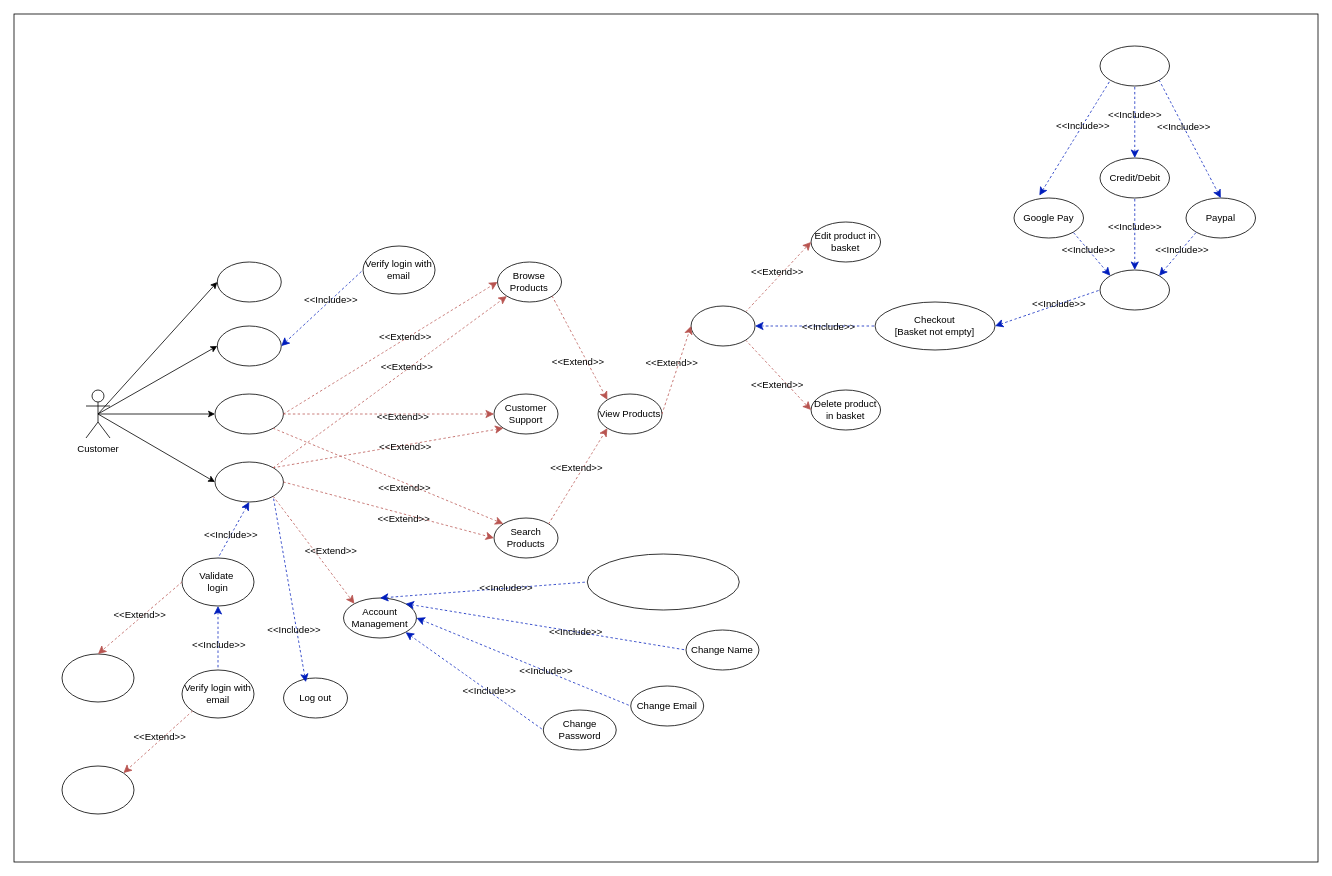
This 1332x876 diagram has some shape labels left out. Here are the shapes that lost their labels. From the top down, the centre of each, then its label:
At point (1134, 65): "Pay for Basket".
At point (248, 281): "Forgot Password".
At point (1134, 289): "Payment Types".
At point (248, 345): "Register".
At point (722, 325): "View Basket".
At point (248, 413): "Continue as guest".
At point (248, 481): "Log in".
At point (662, 581): "Order History [Needs at least one order]".
At point (97, 677): "Incorrect login".
At point (97, 789): "Incorrect code".
